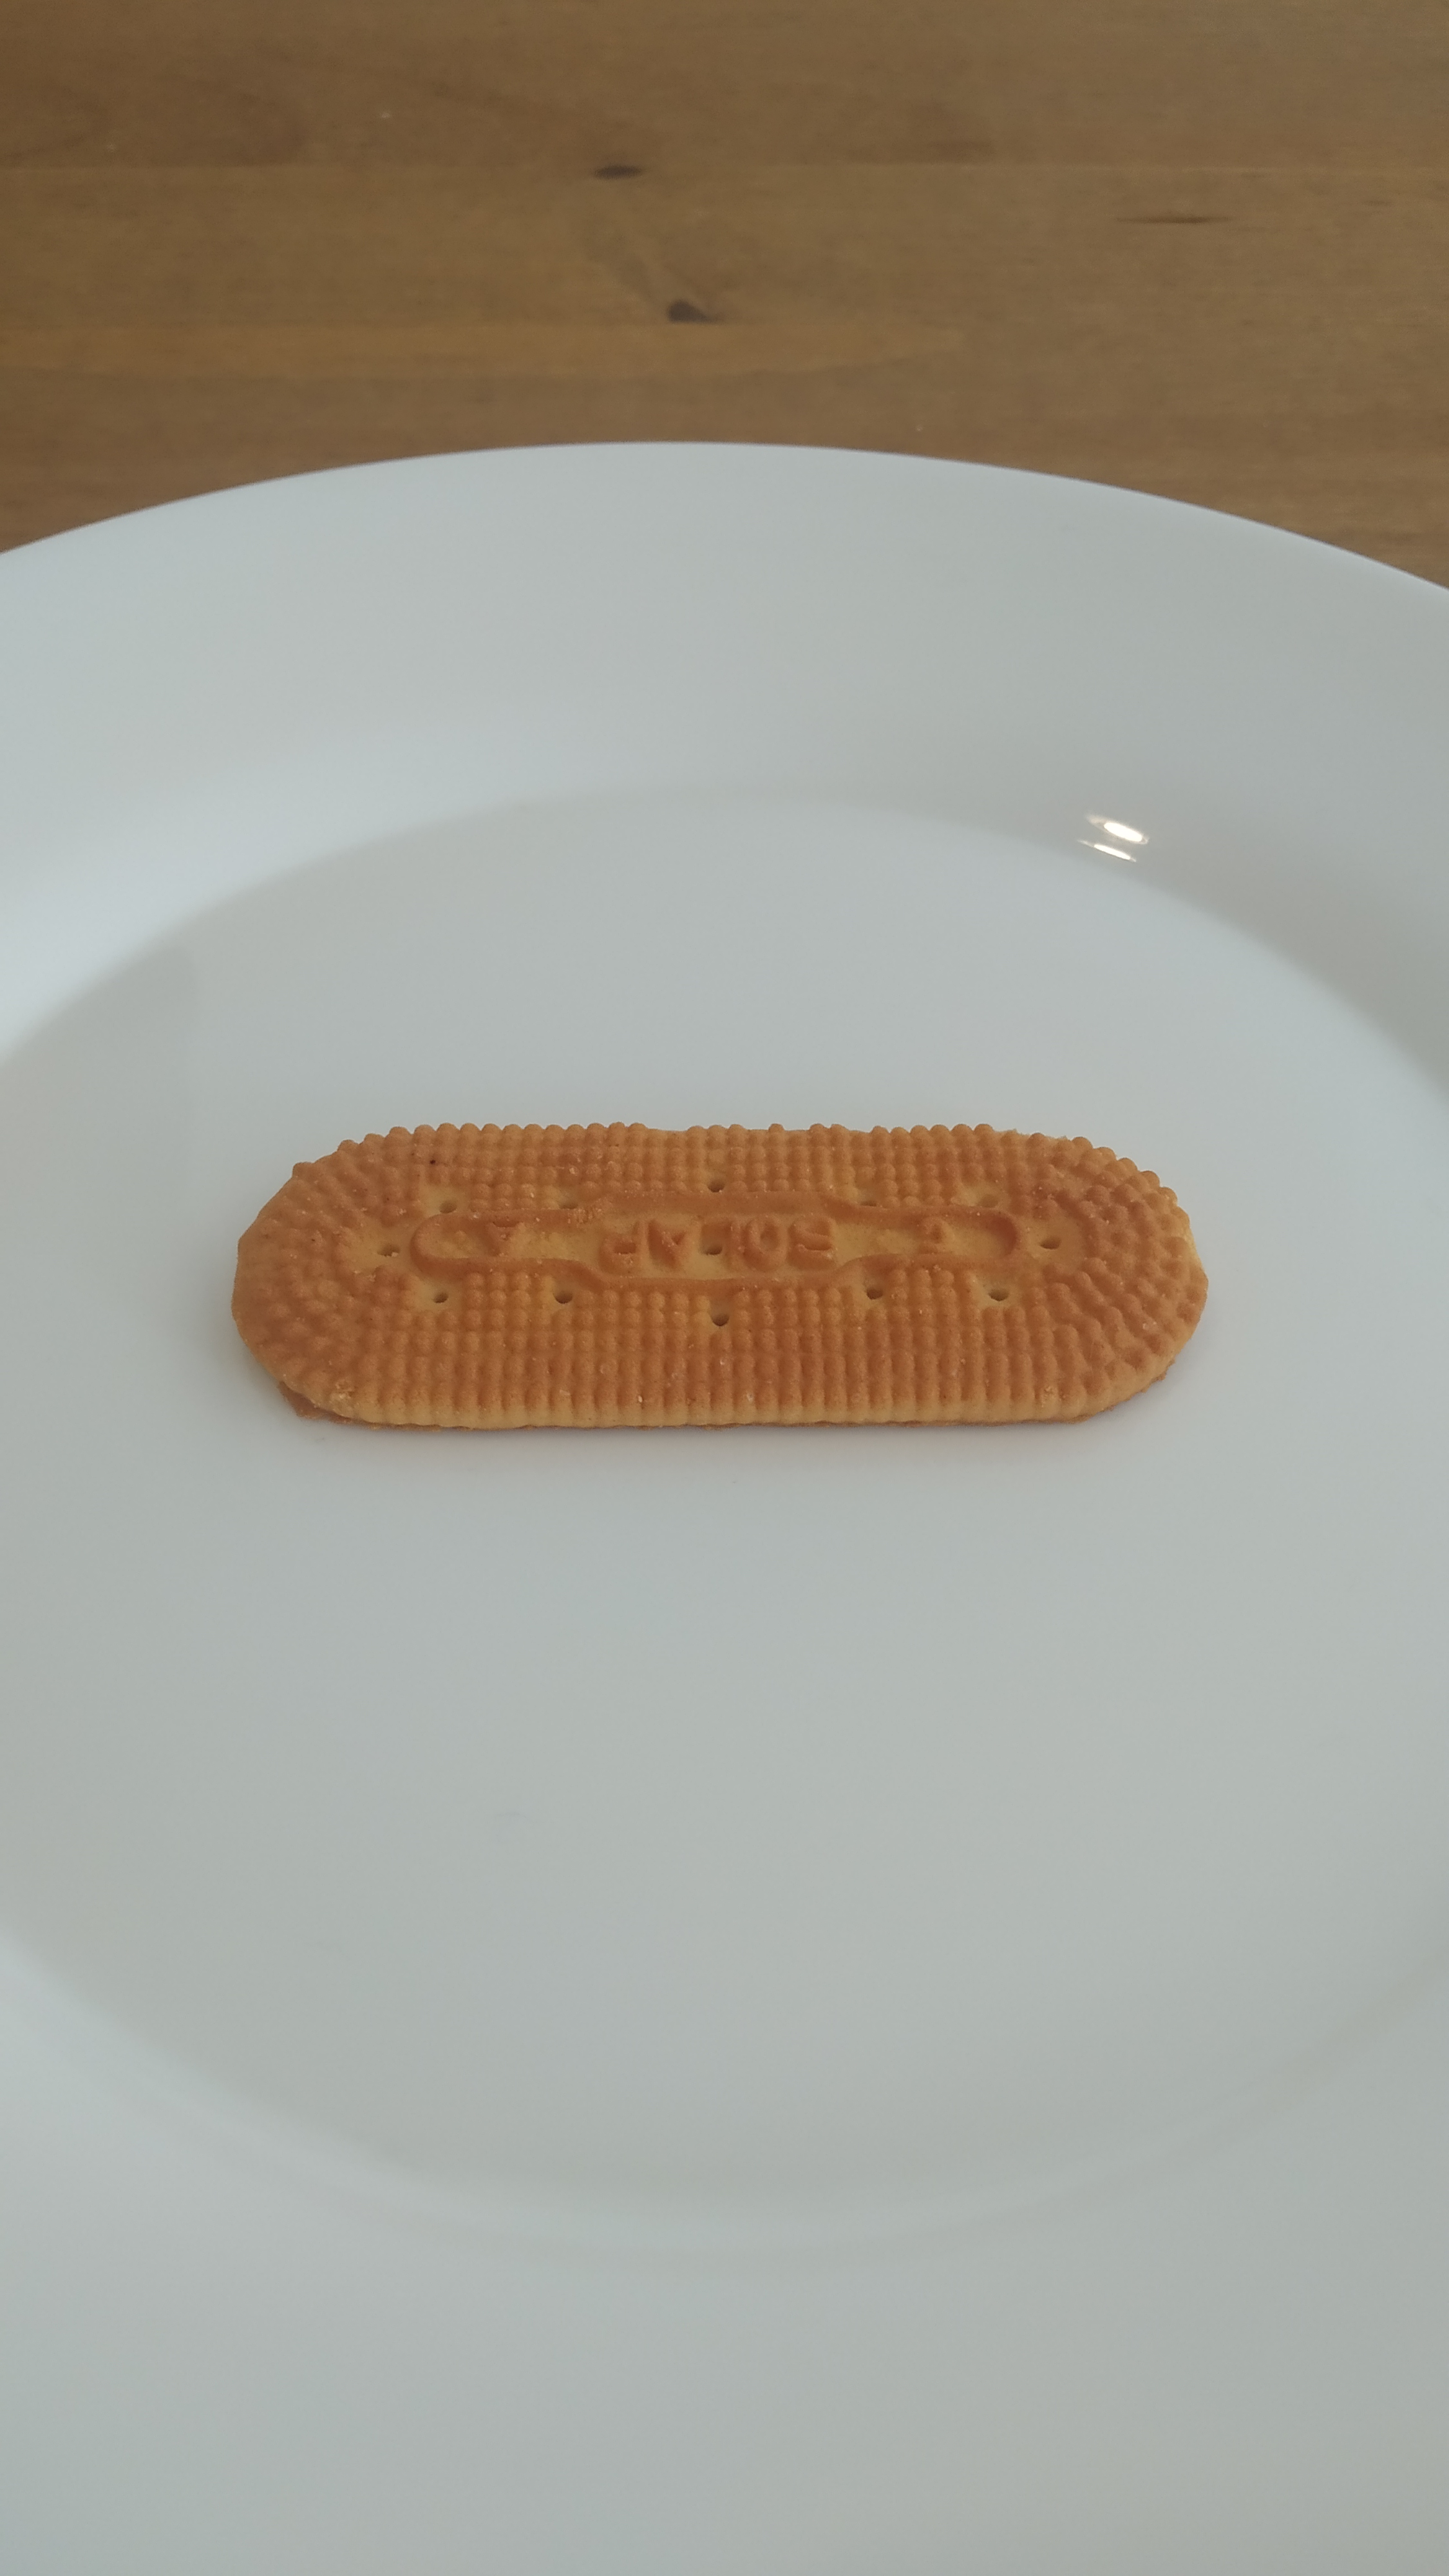solar: (232, 1120, 1210, 1430)
